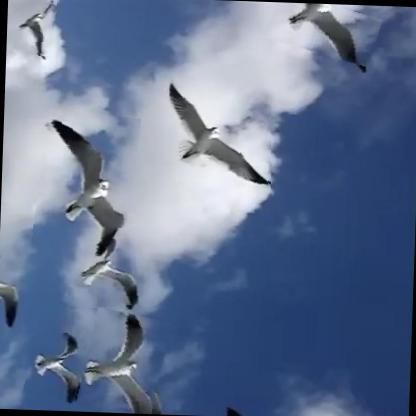bird: (148, 61, 274, 206), (33, 110, 138, 255), (79, 310, 168, 415), (267, 2, 380, 62), (62, 227, 139, 311), (25, 330, 86, 402), (12, 0, 56, 56)
